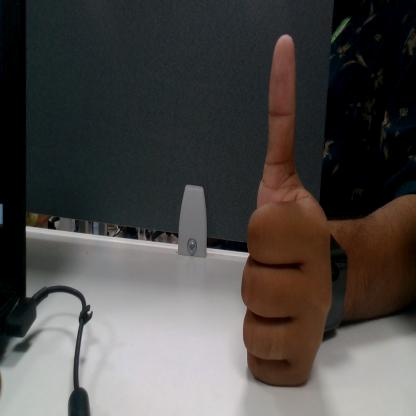Thumbs up: (244, 27, 330, 385)
